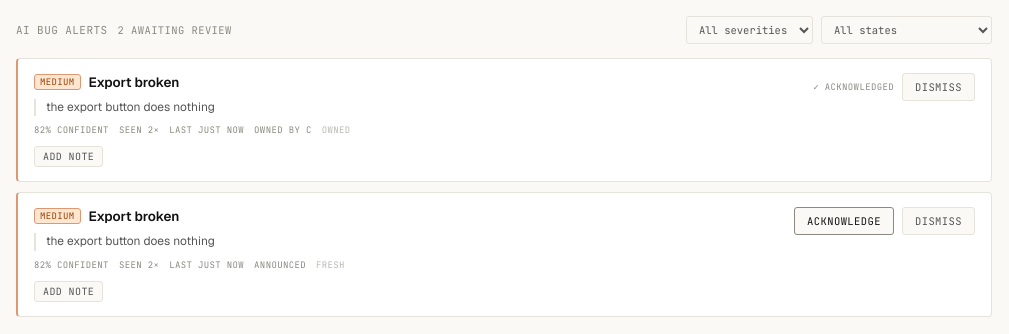
Scenario: BugAlertsPage › filters by the acknowledged state
Select "Acknowledged" in the dropdown named "Filter by state": (906, 30) [821, 16, 992, 44]
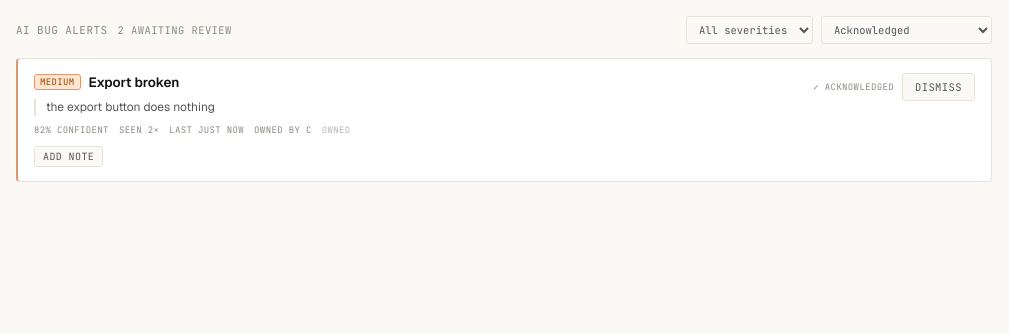
Expected: the list item shows "owned", [322, 124, 350, 136]
Result: the number of list items is 1 at [16, 58, 992, 182]
